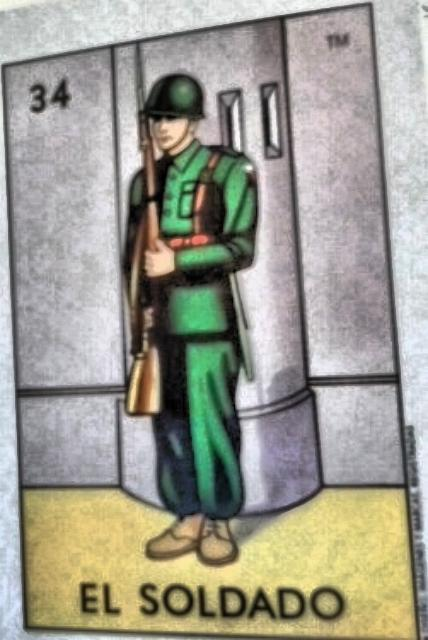El Soldado: (3, 2, 420, 638)
